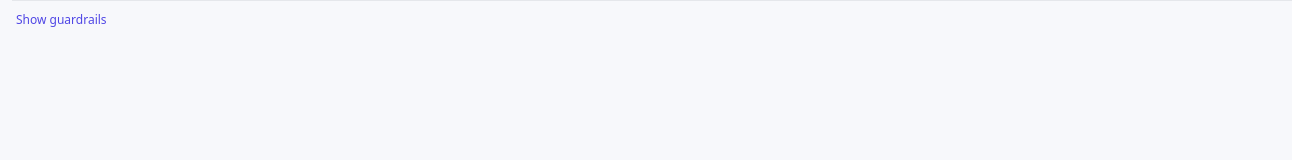
GuardrailsPanel › shows the verdict: grounded, or flagged with claims
The width and height of the screenshot is (1292, 160).
Later steps or results of the test are not shown.
What coordinates should you click on to do the following:
click the button "Show guardrails"
I would click on:
 (61, 20)
Its box is [12,10,111,30].
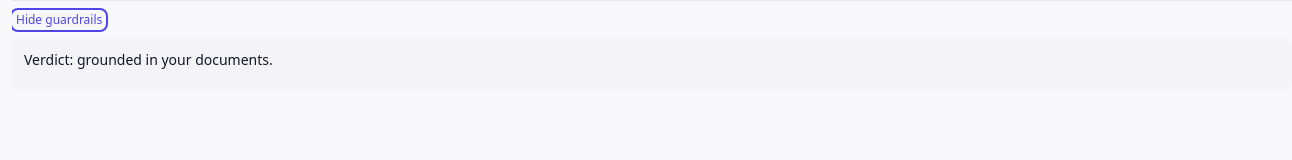
Result: the text "Verdict: grounded in your documents." is shown at [24,50,273,69]
